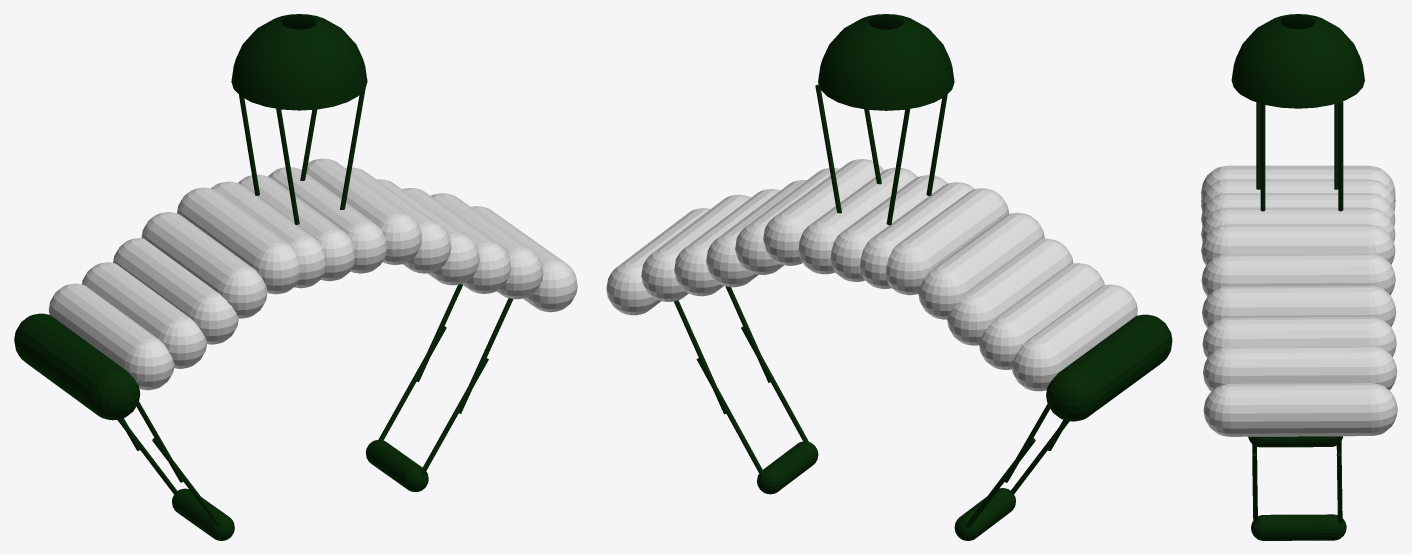
File: paracaidas by PizzaSteven.fbx
3 views of the same model, side by side, from view 1: azimuth 30°, elevation 25°; view 2: azimuth 150°, elevation 25°; view 3: azimuth 270°, elevation 25° (orthographic). The views are drawn at different scales.
Visible parts, largest first — view 1: mini_paracaidas, paracaidas, Cubo_1, Cubo_4, Cubo_5, Cubo_3, Cubo_2, Cubo_9, Cubo_8, Cubo_7, Cubo_6, Cubo_13 (+8 smaller); view 2: mini_paracaidas, paracaidas, Cubo_1, Cubo_4, Cubo_5, Cubo_3, Cubo_2, Cubo_9, Cubo_8, Cubo_7, Cubo_6, Cubo_13 (+7 smaller); view 3: mini_paracaidas, Cubo_14, Cubo_13, Cubo_10, Cubo_11, Cubo_9, Cubo_12, Cubo_8, Cubo_7, Cubo_6, sostenes, Cubo_5 (+8 smaller).
Boxes of the visible parts, x1,y1,x2,y2 form: mini_paracaidas: (231,14,367,110); paracaidas: (14,313,140,420); Cubo_1: (48,283,174,390); Cubo_4: (141,212,267,318); Cubo_5: (177,187,299,294); Cubo_3: (113,238,238,344); Cubo_2: (82,262,206,368); Cubo_9: (301,158,422,264); Cubo_8: (268,167,386,273); Cubo_7: (238,174,354,281); Cubo_6: (211,181,325,288); Cubo_13: (431,193,543,299); mini_paracaidas: (818,14,954,110); paracaidas: (1046,314,1172,421); Cubo_1: (1011,284,1137,391); Cubo_4: (918,212,1044,319); Cubo_5: (886,188,1009,295); Cubo_3: (947,238,1073,345); Cubo_2: (979,263,1104,369); Cubo_9: (763,159,883,265); Cubo_8: (798,167,917,274); Cubo_7: (830,175,947,281); Cubo_6: (860,182,974,288); Cubo_13: (641,194,750,301); mini_paracaidas: (1231,14,1364,108); Cubo_14: (1203,383,1397,436); Cubo_13: (1203,345,1397,391); Cubo_10: (1201,253,1395,296); Cubo_11: (1202,285,1396,328); Cubo_9: (1201,224,1395,265); Cubo_12: (1202,316,1396,358); Cubo_8: (1201,207,1395,241); Cubo_7: (1201,193,1395,226); Cubo_6: (1201,179,1395,211); sostenes: (1251,514,1346,540); Cubo_5: (1201,167,1395,199).
Size of the model in its own units: 824 by 778 by 295.
